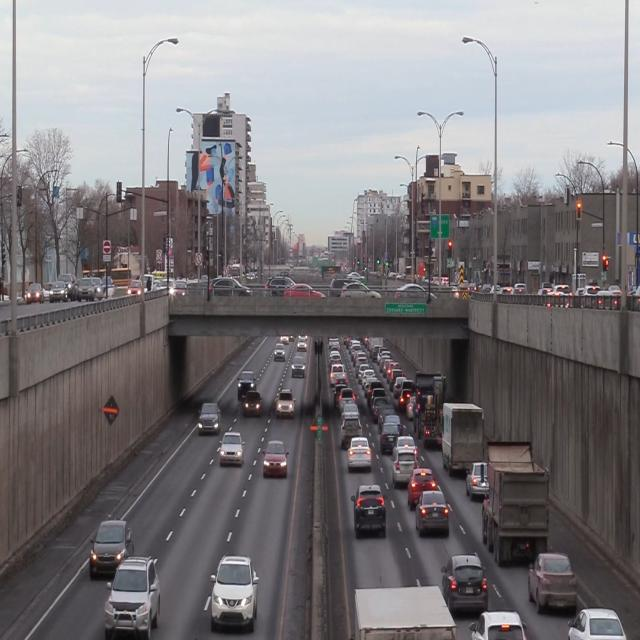Car: (480, 449, 550, 560), (104, 560, 166, 636), (209, 558, 261, 626), (441, 554, 489, 615), (443, 404, 485, 471), (92, 516, 133, 573), (529, 556, 572, 607), (351, 484, 388, 542), (416, 491, 452, 538), (261, 439, 291, 482), (409, 466, 438, 504), (391, 450, 418, 485), (220, 432, 245, 469), (347, 438, 373, 471), (197, 401, 220, 438), (274, 388, 298, 420), (237, 370, 257, 404), (243, 390, 263, 419), (290, 356, 308, 378)
